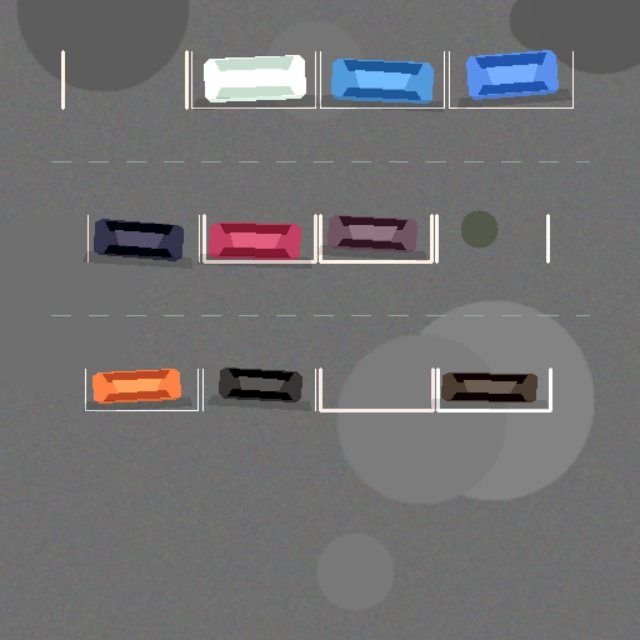space-empty: (63, 51, 186, 107), (436, 215, 548, 261), (320, 369, 433, 410)
space-occupied: (191, 51, 315, 107), (320, 51, 444, 107), (449, 51, 573, 107), (88, 215, 199, 261), (204, 215, 315, 261), (320, 215, 431, 261), (437, 369, 550, 410), (85, 369, 197, 410), (203, 369, 315, 410)
